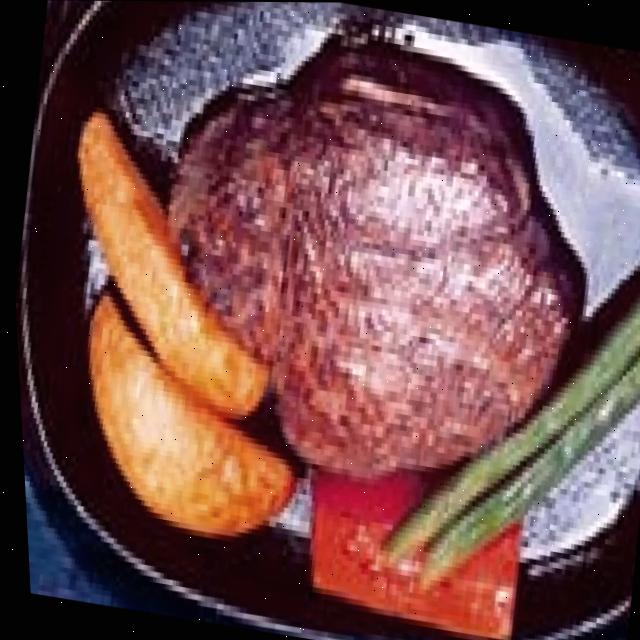牛肉菜式: (120, 3, 625, 514)
